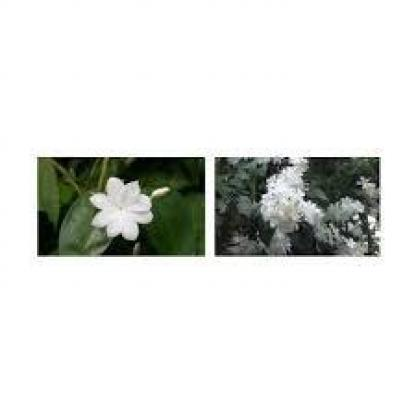Melati: (256, 164, 369, 247), (88, 166, 154, 234)
